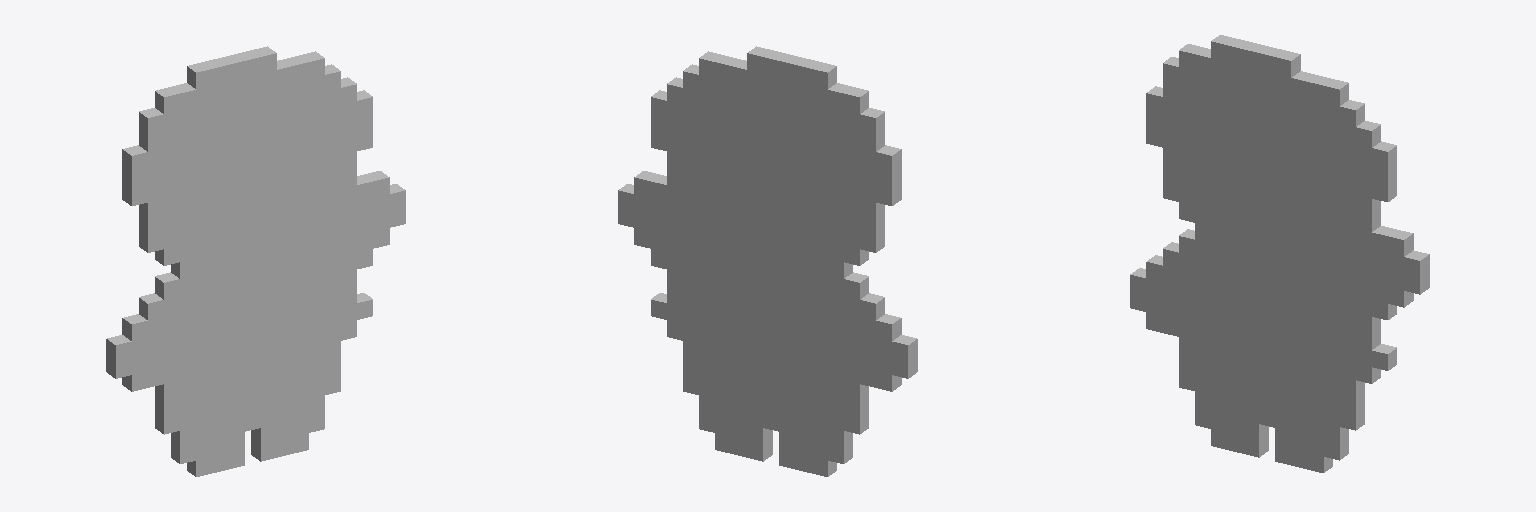
Rendered from chr_knight.obj.
The picture shows the model from 3 angles: view 1: azimuth 30°, elevation 25°; view 2: azimuth 150°, elevation 25°; view 3: azimuth 330°, elevation 25°; orthographic projection.
Parts seen in each view (by area): view 1: object 1; view 2: object 1; view 3: object 1.
Boxes of the visible parts, box(x1,y1,x2,y2) form: object 1: box(106, 46, 405, 476); object 1: box(618, 46, 917, 476); object 1: box(1130, 35, 1429, 472).
Size of the model in its own units: 1.8 by 2.4 by 0.1.